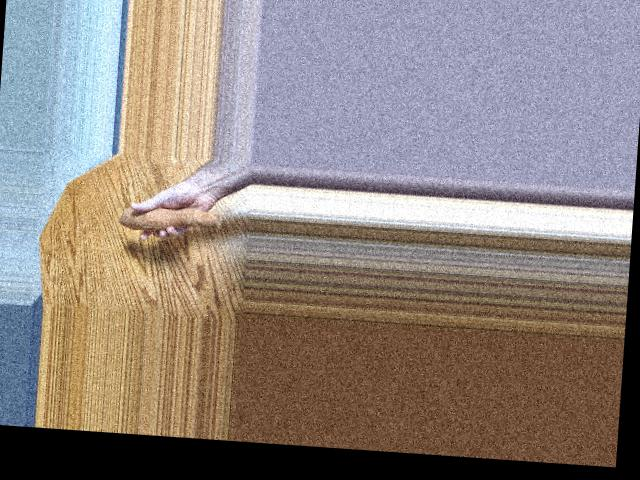sweet_potato: (109, 191, 227, 238)
